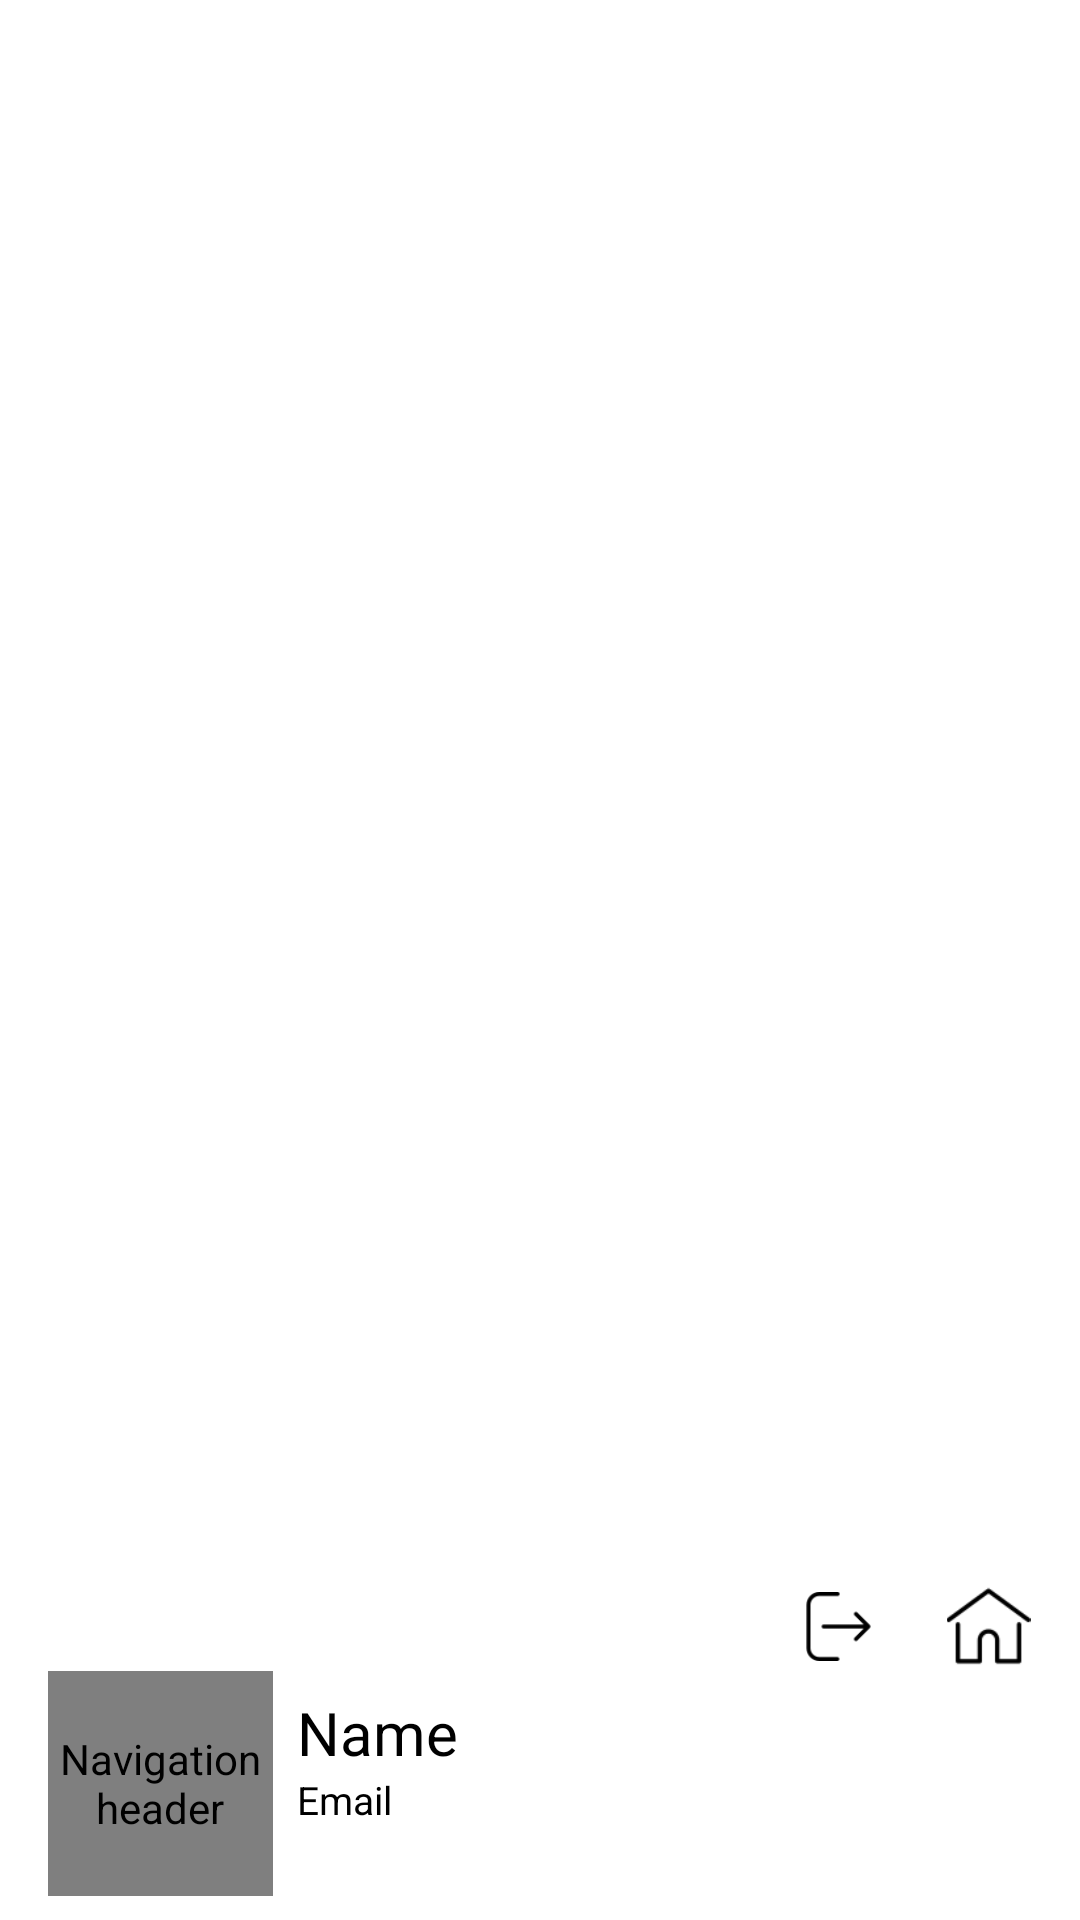

Named icons in this screenshot (1080 × 1920) and their bounding boxes, (x1, y1, x2, y2):
home: (947, 1588, 1031, 1664)
